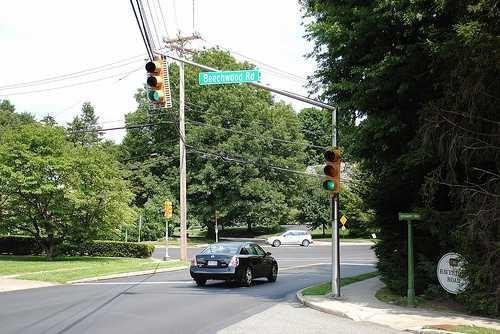2: (142, 58, 172, 112), (322, 145, 340, 192)
red traffic light: (148, 86, 168, 108), (326, 178, 338, 192)
